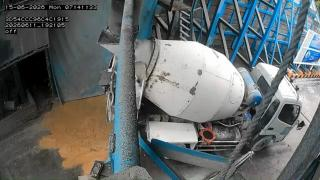cement_mixer_truck: (97, 31, 304, 154)
swing_chute: (109, 0, 140, 35)
